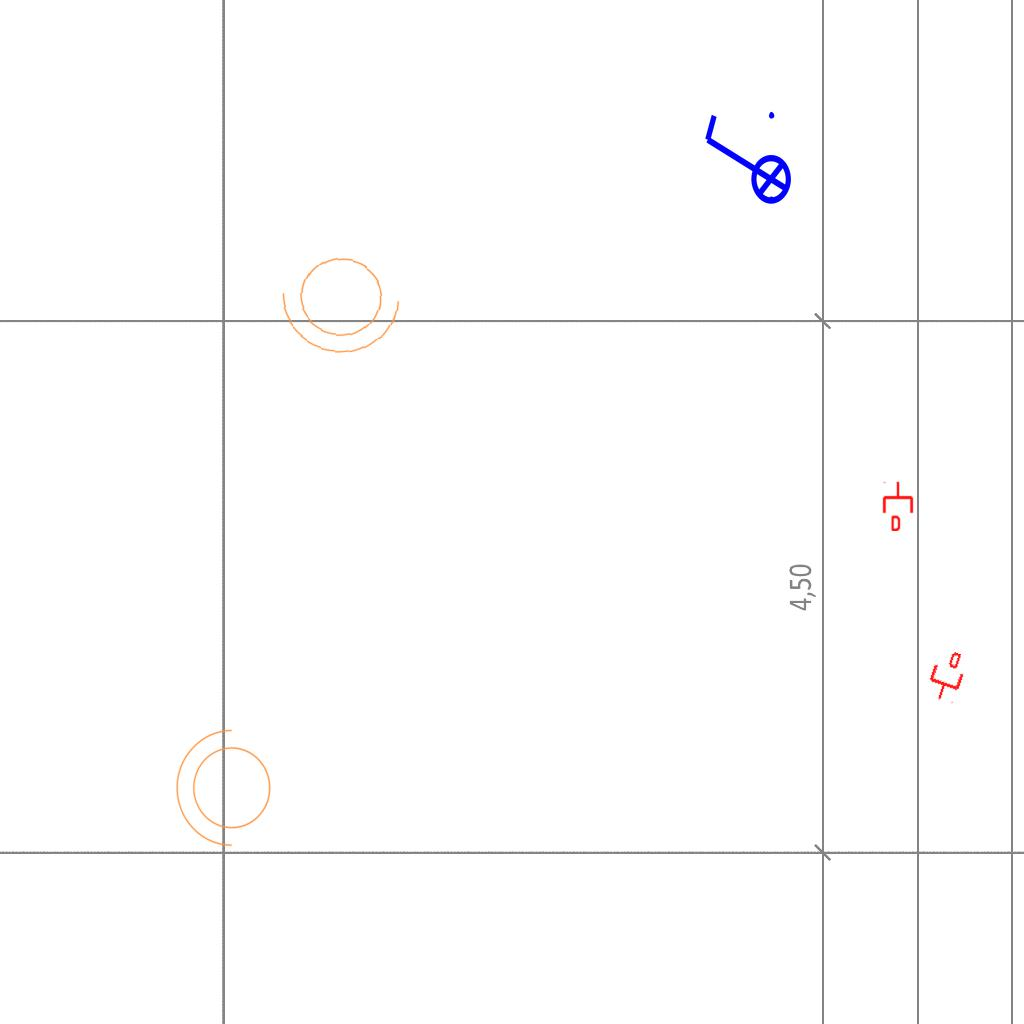Ausschalter_beleuchtet: (697, 106, 793, 218)
Datenanschluss_einfach: (922, 646, 972, 706), (881, 481, 915, 531)
Scheinwerfer_fuer_Alarmbeleuchtung: (274, 241, 414, 363), (171, 725, 283, 857)
